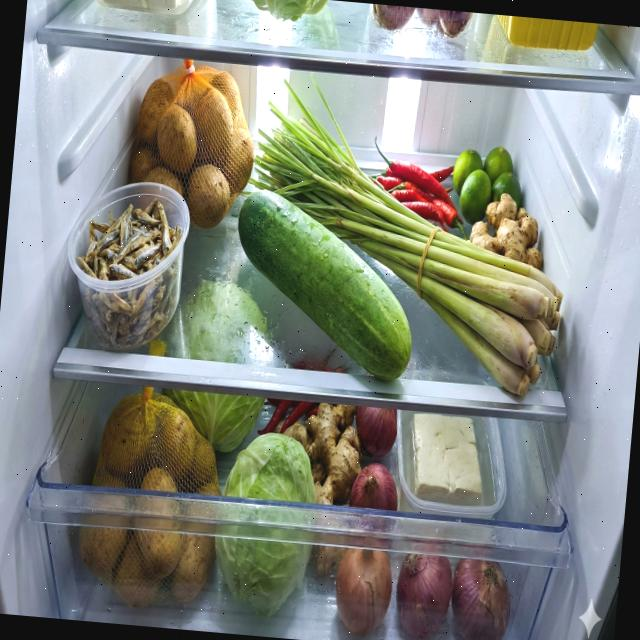anchovies: (68, 188, 188, 352)
cabbage: (206, 426, 324, 622), (157, 274, 276, 458)
chili: (366, 136, 476, 242), (256, 397, 319, 440)
cucumber: (225, 188, 423, 382)
ginger: (298, 398, 368, 510)
lemongrass: (230, 67, 580, 399)
lime: (448, 142, 525, 228)
onion: (330, 545, 394, 637), (447, 556, 515, 640), (392, 550, 455, 640), (348, 459, 402, 512), (351, 405, 399, 460)
potato: (72, 391, 230, 616), (125, 64, 260, 232)
tofu: (403, 413, 488, 505)
